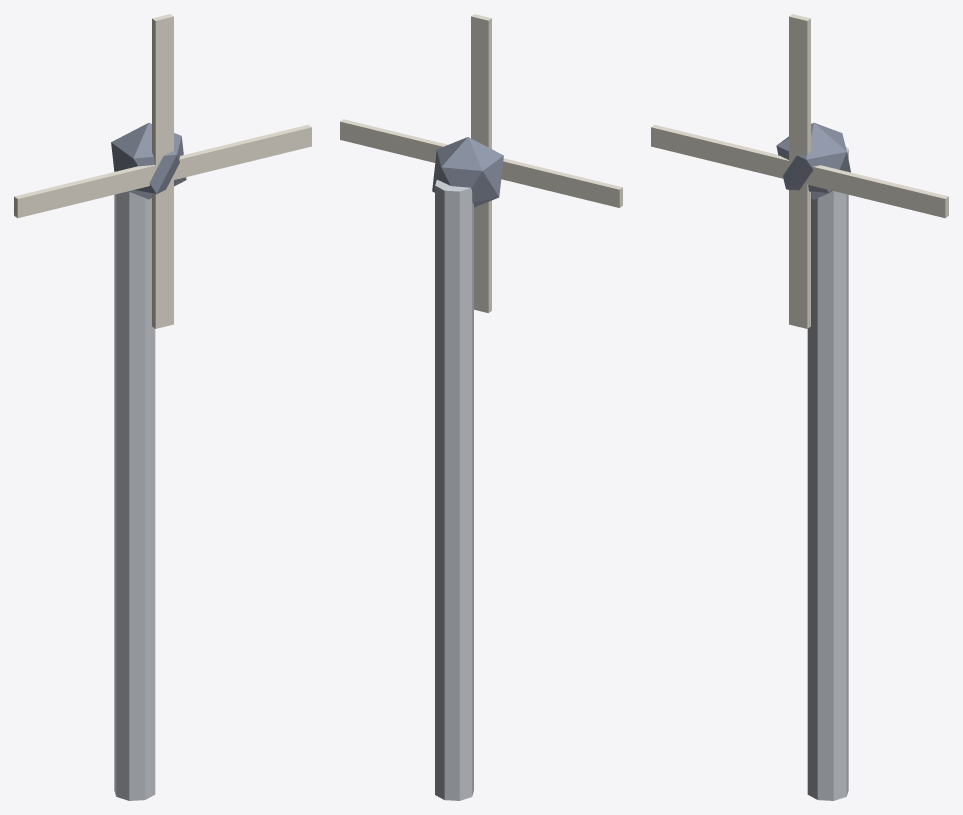
File: colony-wind-turbine.glb
The picture shows the model from 3 angles, left to right: view 1: azimuth 30°, elevation 25°; view 2: azimuth 150°, elevation 25°; view 3: azimuth 330°, elevation 25°; orthographic projection. The views are drawn at different scales.
Parts seen in each view (by area): view 1: wind_turbine; view 2: wind_turbine; view 3: wind_turbine.
Part boxes in pixels (x1,y1,x2,y2): wind_turbine: (14, 14, 311, 800); wind_turbine: (340, 14, 622, 800); wind_turbine: (651, 14, 948, 800).
Size of the model in its own units: 2.4 by 6.2 by 0.6052.
